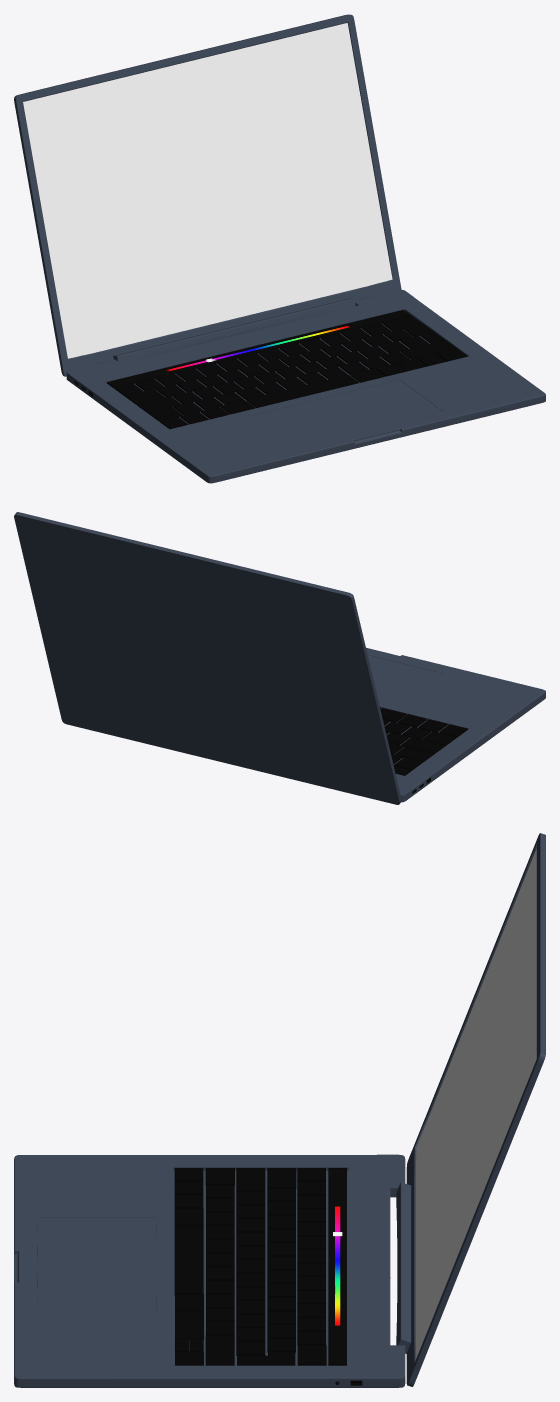
The model's file is laptop-optimized.glb.
3 views of the same model, one above another, from view 1: azimuth 30°, elevation 25°; view 2: azimuth 150°, elevation 25°; view 3: azimuth 270°, elevation 25° (orthographic). The views are drawn at different scales.
Parts seen in each view (by area): view 1: Glasss Screen, LTBase, Keyboard, LTScreen, Trackpad; view 2: LTScreen, LTBase, Keyboard, Trackpad; view 3: LTBase, Keyboard, Glasss Screen, Trackpad, LTScreen.
Part boxes in pixels (x1,y1,x2,y2): Glasss Screen: (23,23,392,358); LTBase: (66,290,545,483); Keyboard: (107,310,467,429); LTScreen: (14,14,401,376); Trackpad: (252,379,442,447); LTScreen: (14,512,401,804); LTBase: (366,648,545,802); Keyboard: (380,707,467,775); Trackpad: (367,655,442,705); LTBase: (14,1154,405,1387); Keyboard: (174,1168,346,1365); Glasss Screen: (416,849,536,1357); Trackpad: (37,1218,156,1315); LTScreen: (396,833,545,1386).
Bounding box in the file's own units: 0.5855 × 0.4092 × 0.5885.
6 materials, 2 textured.
